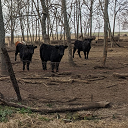vaca: (10, 37, 35, 74), (40, 39, 65, 72), (71, 32, 93, 58)
